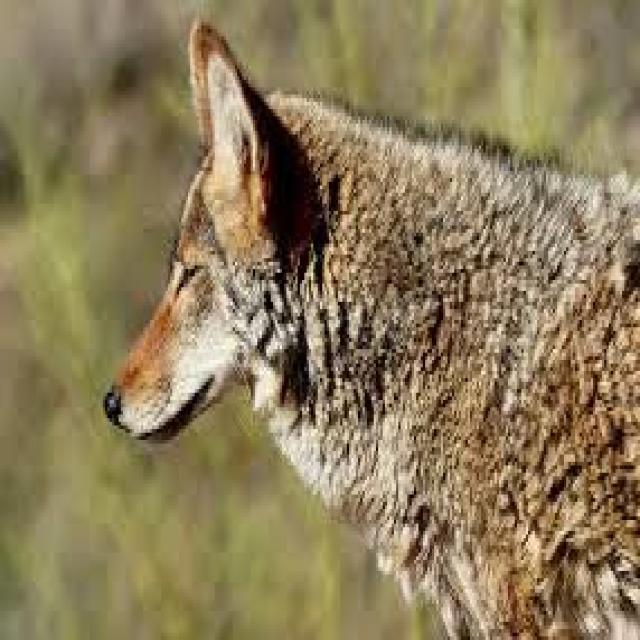Coyote: (105, 11, 640, 640)
